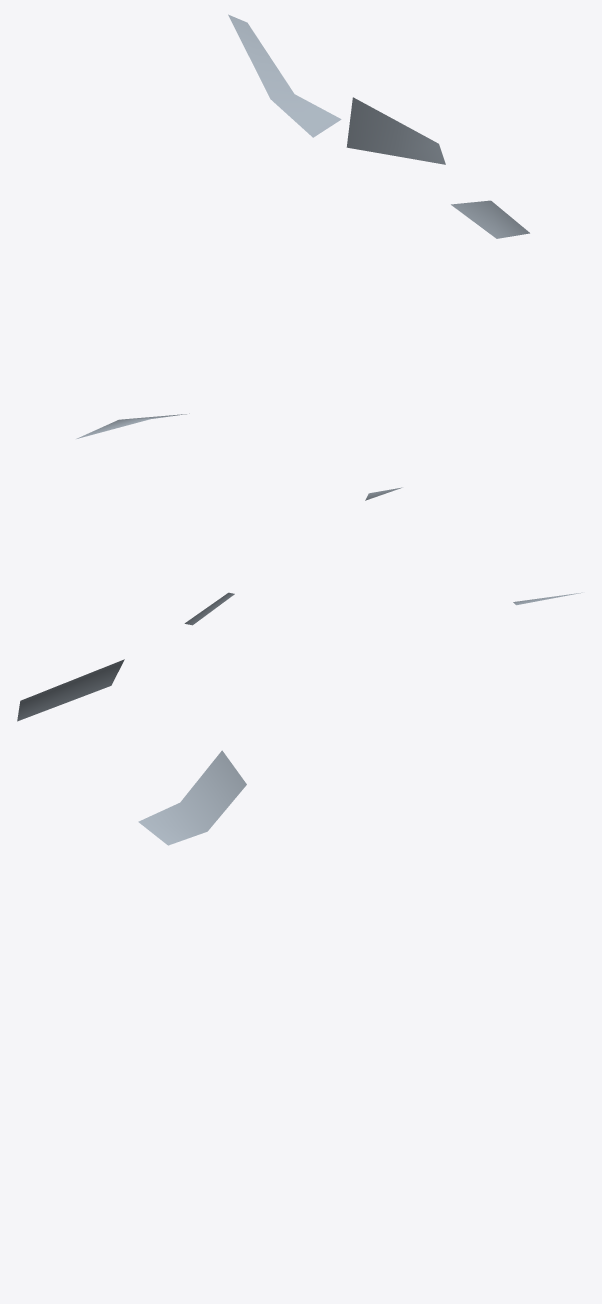
File: plantar-tarsometatarsal-ligaments-l.glb
3 renders of one model, top to bottom at view 1: azimuth 30°, elevation 25°; view 2: azimuth 150°, elevation 25°; view 3: azimuth 270°, elevation 25°, orthographic. The views are drawn at different scales.
Visible parts, largest first — view 1: Plantar tarsometatarsal ligaments.l; view 2: Plantar tarsometatarsal ligaments.l; view 3: Plantar tarsometatarsal ligaments.l.
Part boxes in pixels (x1,y1,x2,y2): Plantar tarsometatarsal ligaments.l: [76, 14, 529, 438]; Plantar tarsometatarsal ligaments.l: [17, 487, 582, 721]; Plantar tarsometatarsal ligaments.l: [138, 750, 246, 845].
Size of the model in its own units: 0.0397 by 0.0219 by 0.0327.
